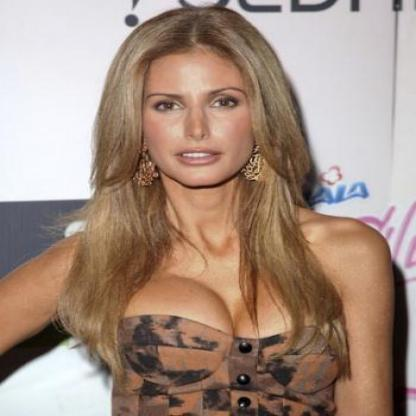long-hair: (74, 189, 328, 239)
